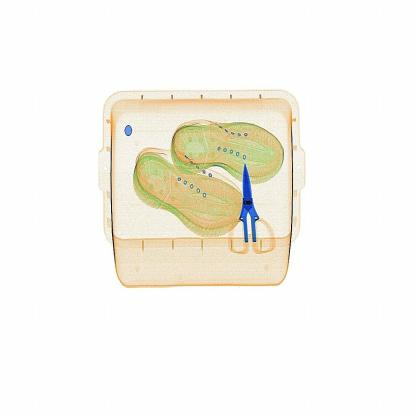gun: (220, 148, 280, 264)
